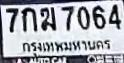0: (76, 5, 89, 29)
4: (108, 3, 120, 29)
6: (92, 5, 105, 28)
7: (60, 6, 73, 30), (5, 7, 17, 32)
A01: (21, 7, 36, 31)
A06: (40, 6, 55, 30)
BKK: (20, 38, 111, 56)
